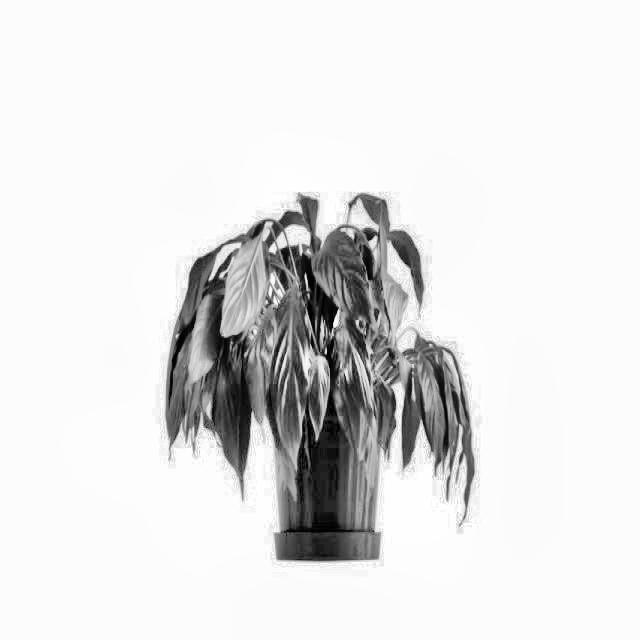plants: (150, 178, 493, 566)
